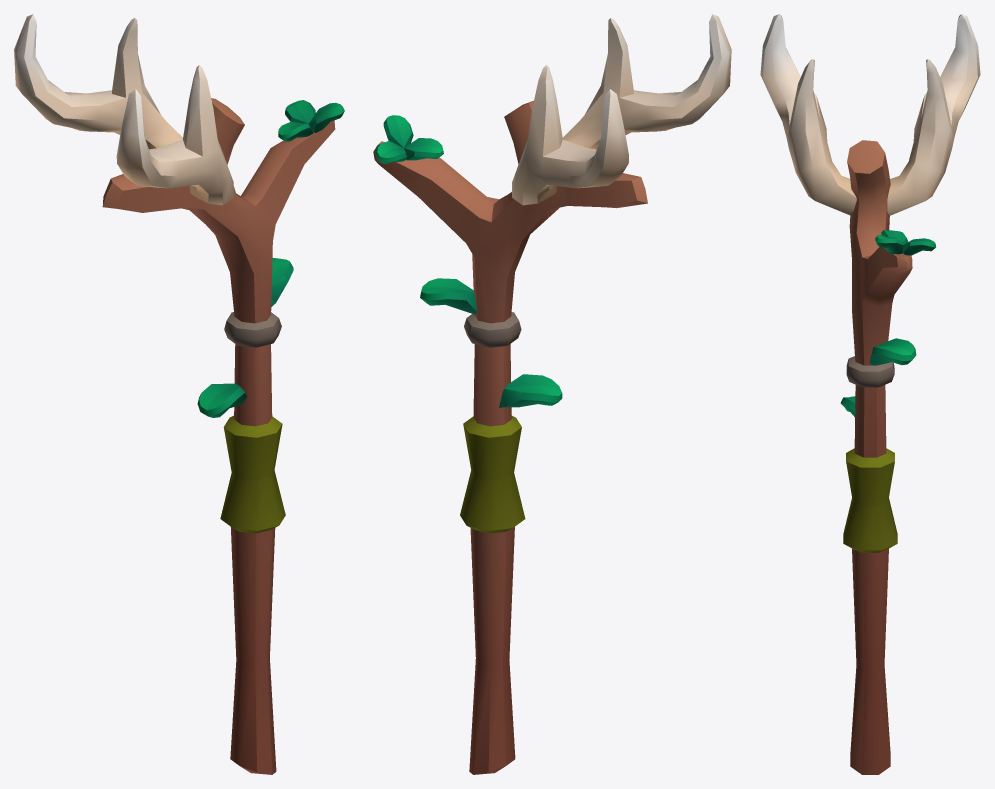
File: druid-staff.glb
3 views of the same model, side by side, from view 1: azimuth 30°, elevation 25°; view 2: azimuth 150°, elevation 25°; view 3: azimuth 270°, elevation 25° (orthographic). The views are drawn at different scales.
Visible parts, largest first — view 1: druid_staff; view 2: druid_staff; view 3: druid_staff.
Boxes of the visible parts, <box> form: druid_staff: <box>14,14,344,774</box>; druid_staff: <box>373,14,731,774</box>; druid_staff: <box>760,14,980,774</box>.
Bounding box in the file's own units: 0.8741 × 2.26 × 0.6621.
Materials: 1 (1 with a texture image).
